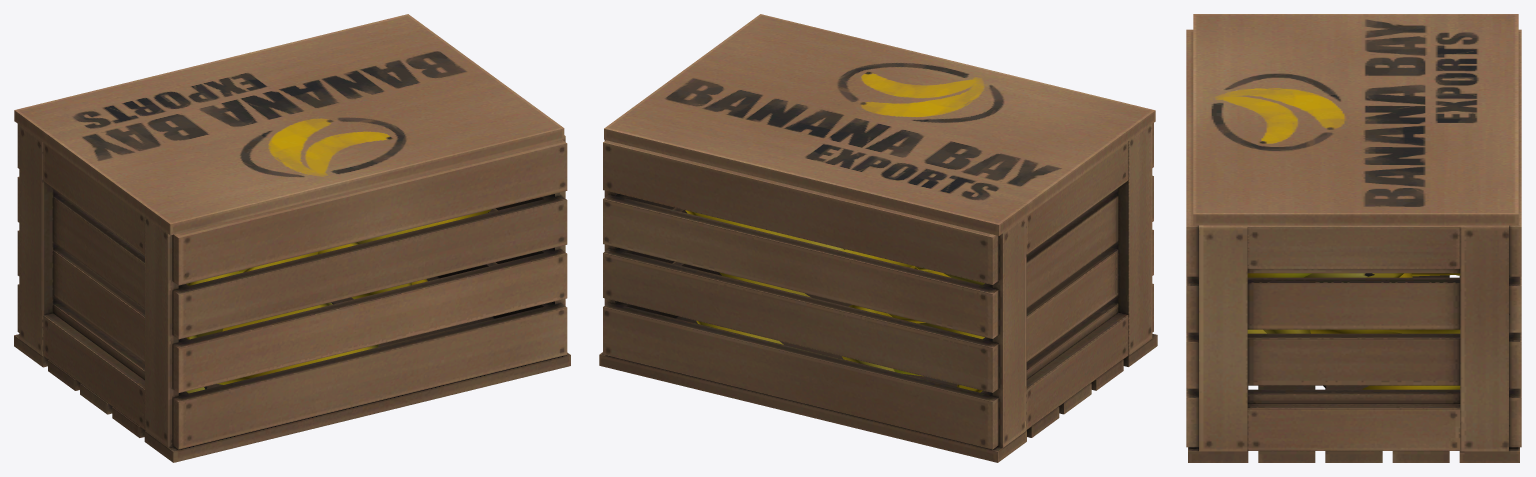
The model's file is small_crate.dae.
3 views of the same model, side by side, from view 1: azimuth 30°, elevation 25°; view 2: azimuth 150°, elevation 25°; view 3: azimuth 270°, elevation 25° (orthographic). The views are drawn at different scales.
Parts seen in each view (by area): view 1: crate_closed; view 2: crate_closed; view 3: crate_closed.
Part boxes in pixels (x1,y1,x2,y2): crate_closed: [14, 14, 570, 462]; crate_closed: [599, 14, 1157, 462]; crate_closed: [1186, 14, 1521, 462].
Size of the model in its own units: 0.8425 by 0.5899 by 0.4792.
1 material, 1 textured.
